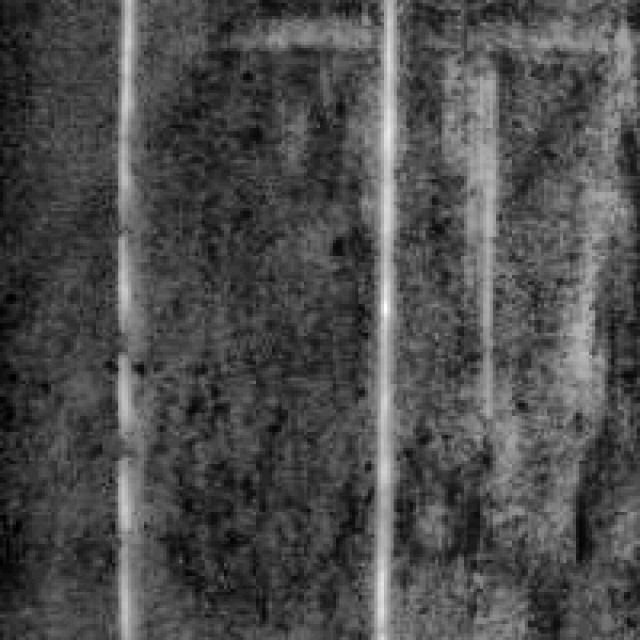Inclusion: (358, 0, 403, 630), (102, 0, 140, 630)
